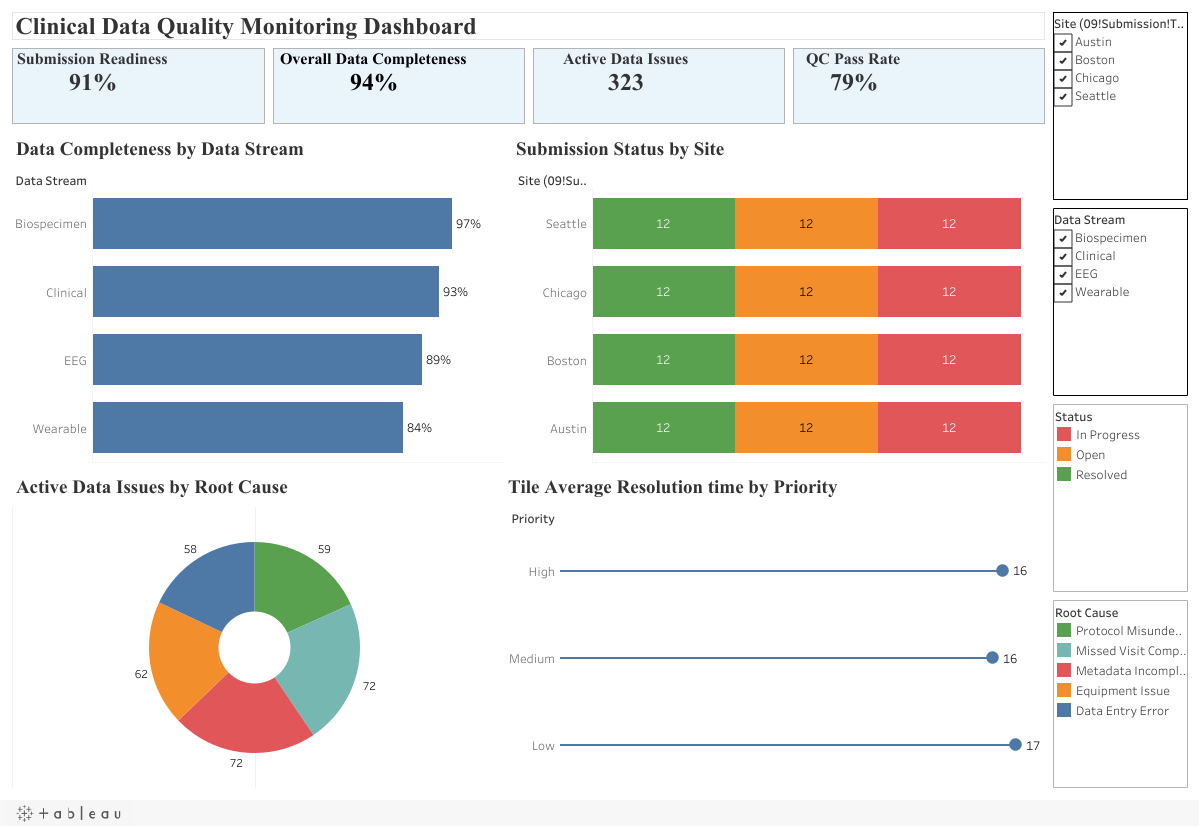

What the dashboard file says about the page in this screenshot:
{"tool":"tableau","page":{"name":"Dashboard 1","canvas":[1566,950],"ordinal":0},"visuals":[{"type":"title","box":[8,8,1407,42]},{"type":"filter","title":"Sheet 6","param":"[federated.1016ahg19phutq1abygg80sabe8v].[none:Site (09!Submission!Tracker):nk]","box":[1415,8,143,234]},{"type":"worksheet","title":"Sheet 2","mark":"Automatic","box":[8,50,352,87]},{"type":"worksheet","title":"Sheet 1","mark":"Automatic","box":[360,50,352,87]},{"type":"worksheet","title":"Sheet 3","mark":"Automatic","box":[712,50,352,87]},{"type":"worksheet","title":"Sheet 4","mark":"Text","box":[1064,50,351,87]},{"type":"worksheet","title":"Sheet 5","mark":"Automatic","rows":["Data_Stream"],"cols":["Calculation_1143788107632641"],"box":[8,149.6,676,403.6]},{"type":"worksheet","title":"Sheet 6","mark":"Bar","rows":["Site (09!Submission!Tracker)"],"cols":["Submission_ID"],"box":[684,149.6,731,403.6]},{"type":"filter","title":"Sheet 5","param":"[federated.1016ahg19phutq1abygg80sabe8v].[none:Data_Stream:nk]","box":[1415,242,143,234]},{"type":"legend","title":"Sheet 6","param":"[federated.1016ahg19phutq1abygg80sabe8v].[none:Status:nk]","box":[1415,476,143,233]},{"type":"worksheet","title":"Sheet 7","mark":"Pie","cols":["Calculation_1143788128829448","Calculation_1143788128829448"],"box":[8,553.3,675.5,388.7]},{"type":"worksheet","title":"Sheet 8 ","mark":"Circle","rows":["Priority"],"cols":["Days_Open","Days_Open"],"box":[683.5,553.3,731.5,388.7]},{"type":"legend","title":"Sheet 7","param":"[federated.1016ahg19phutq1abygg80sabe8v].[none:Root_Cause:nk]","box":[1415,709,143,233]}]}

Visuals, with their boxes on the page's 1566x950 design canvas (x1, y1, x2, y2). These are canvas units, not pixel positions in the 1199x826 screenshot, which may show the page scaled, cropped or inside an application window:
title: (left=8, top=8, right=1415, bottom=50)
"Sheet 6" filter: (left=1415, top=8, right=1558, bottom=242)
"Sheet 2" worksheet: (left=8, top=50, right=360, bottom=137)
"Sheet 1" worksheet: (left=360, top=50, right=712, bottom=137)
"Sheet 3" worksheet: (left=712, top=50, right=1064, bottom=137)
"Sheet 4" worksheet (Text marks): (left=1064, top=50, right=1415, bottom=137)
"Sheet 5" worksheet: (left=8, top=150, right=684, bottom=553)
"Sheet 6" worksheet (Bar marks): (left=684, top=150, right=1415, bottom=553)
"Sheet 5" filter: (left=1415, top=242, right=1558, bottom=476)
"Sheet 6" legend: (left=1415, top=476, right=1558, bottom=709)
"Sheet 7" worksheet (Pie marks): (left=8, top=553, right=684, bottom=942)
"Sheet 8 " worksheet (Circle marks): (left=684, top=553, right=1415, bottom=942)
"Sheet 7" legend: (left=1415, top=709, right=1558, bottom=942)
